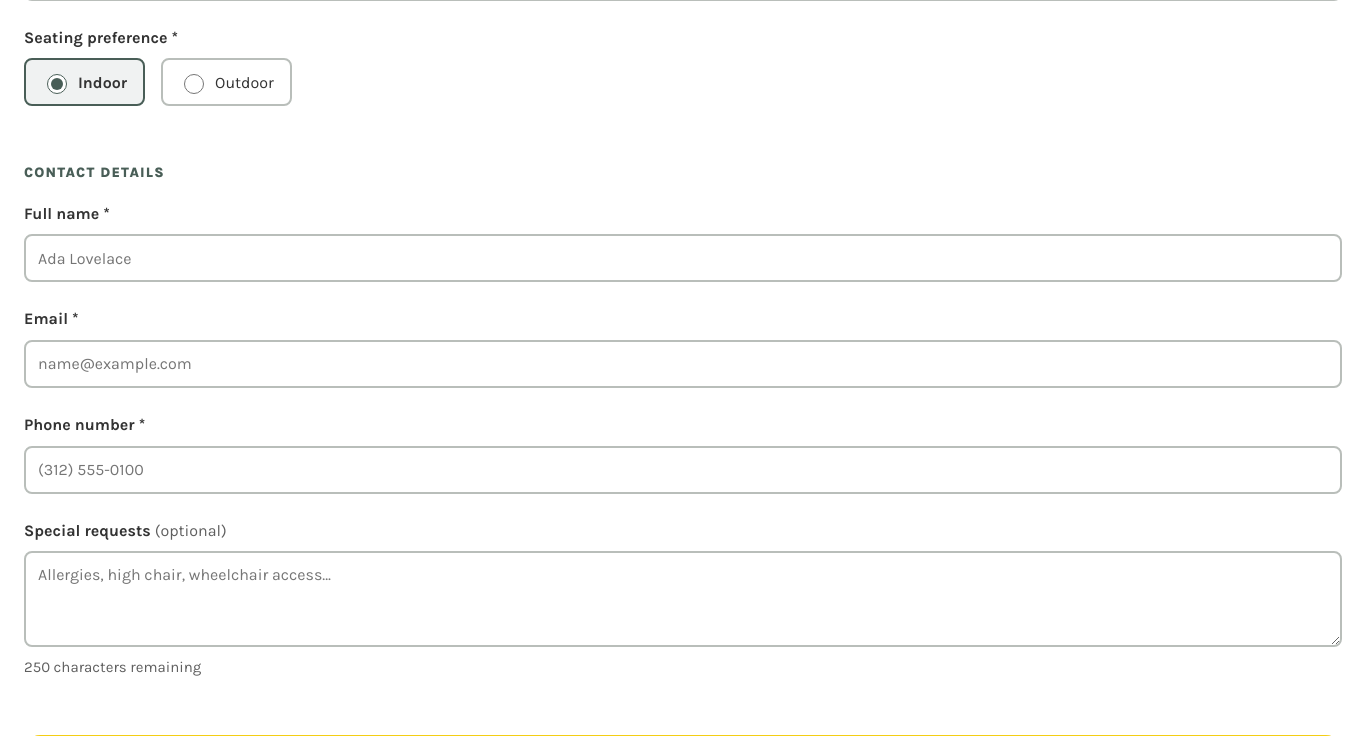
Test: BookingForm validation › marks an invalid field with aria-invalid and links its message
The width and height of the screenshot is (1366, 736).
(page scrolled)
Step 1. Type "not-an-email" into the field labelled "Email *" → (683,364), box [24,340,1342,388]
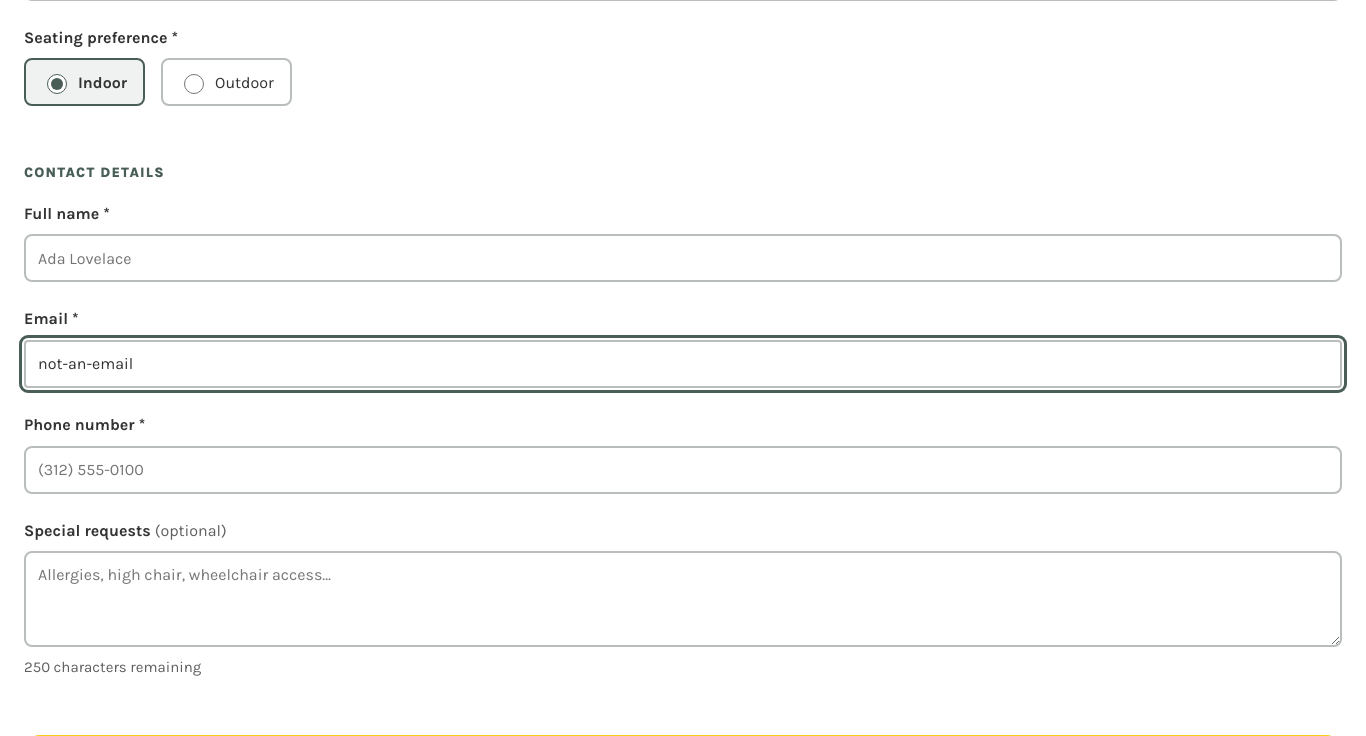
Step 2. Press Tab
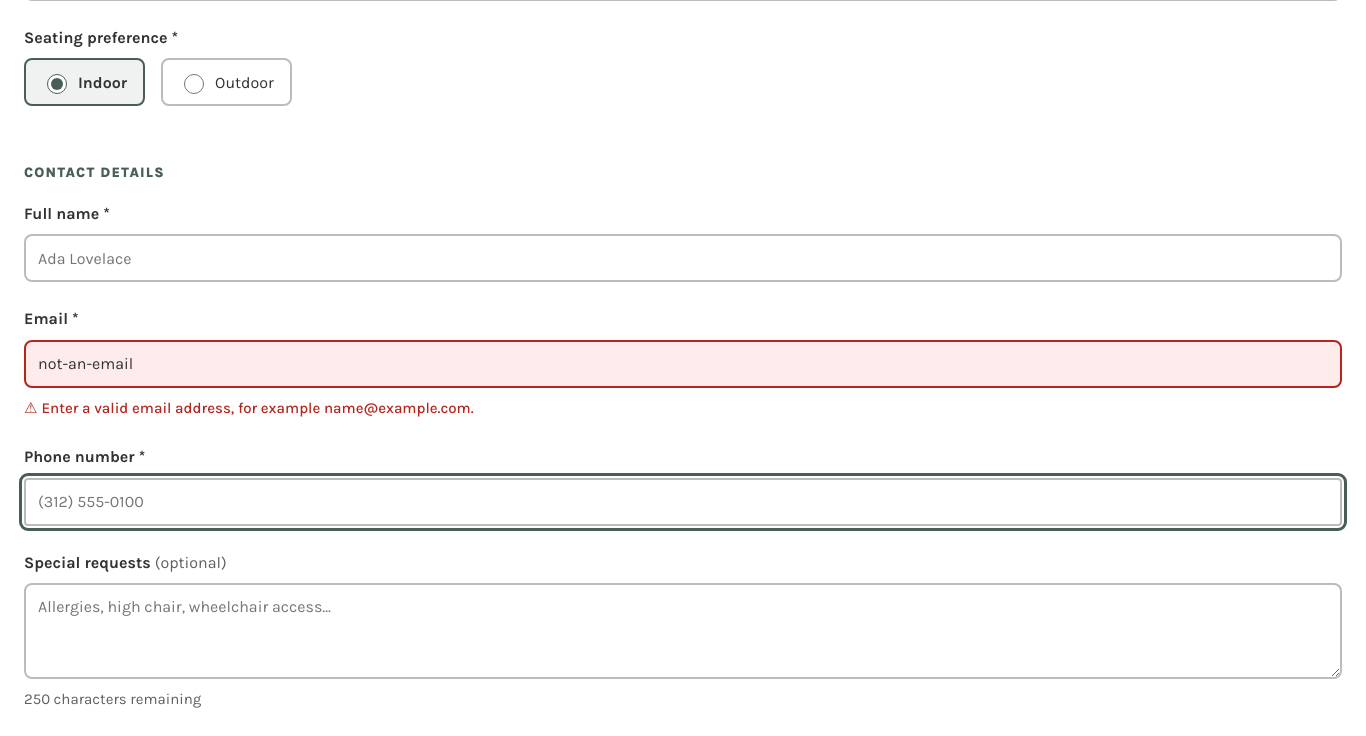
Check: the text "⚠ Enter a valid email address, for example name@example.com." is shown, box [24,399,474,417]
